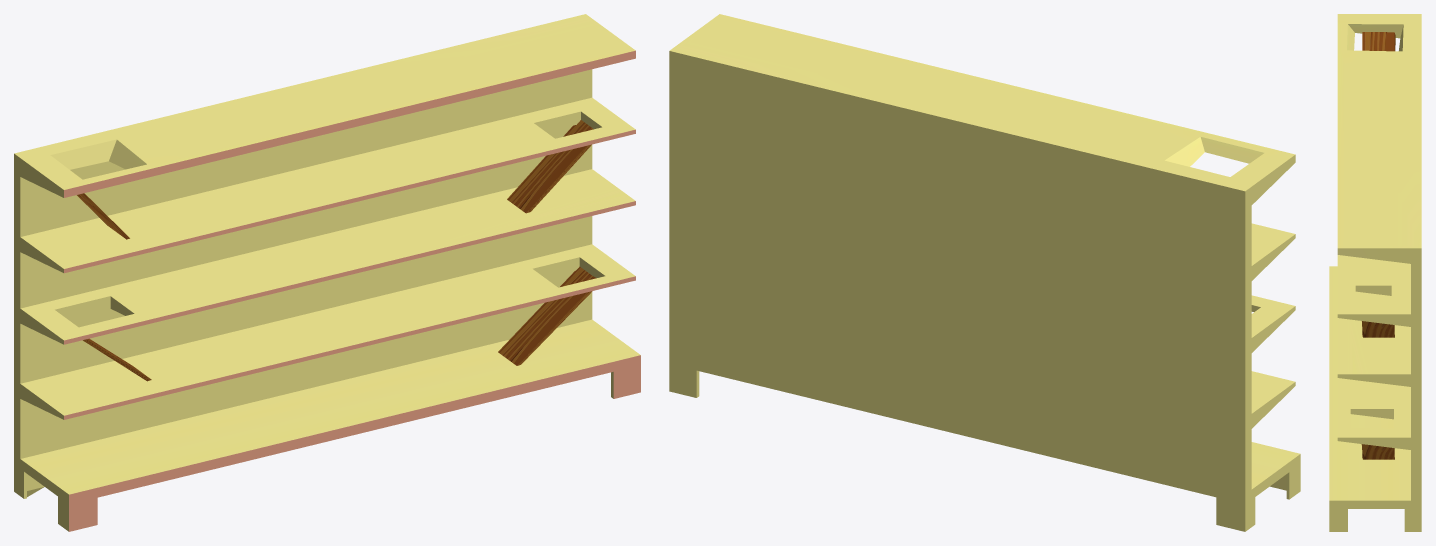
Rendered from GondolaRampas.fbx.
The picture shows the model from 3 angles, left to right: view 1: azimuth 30°, elevation 25°; view 2: azimuth 150°, elevation 25°; view 3: azimuth 270°, elevation 25°; orthographic projection. The views are drawn at different scales.
Parts seen in each view (by area): view 1: GondolaRampas; view 2: GondolaRampas; view 3: GondolaRampas.
Part boxes in pixels (bbox=[...]): GondolaRampas: bbox=[14, 14, 640, 531]; GondolaRampas: bbox=[669, 14, 1300, 531]; GondolaRampas: bbox=[1329, 14, 1421, 531].
Bounding box in the file's own units: 3000 × 1696 × 500.
2 materials, 2 textured.
